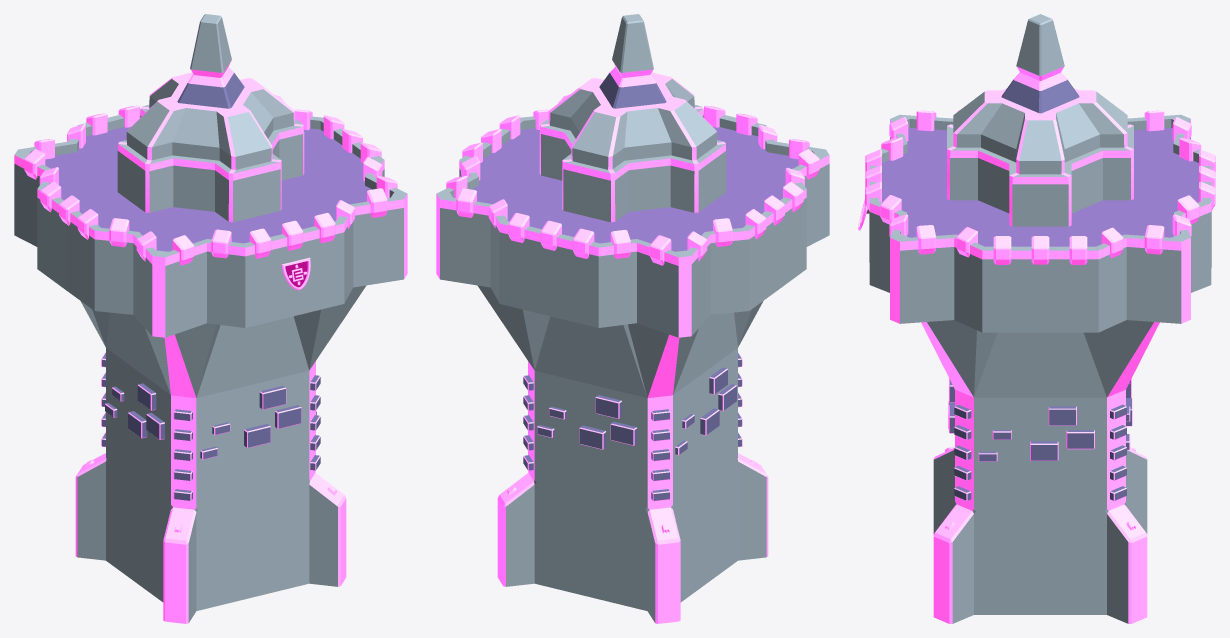
Rendered from asset_castle_tower3.fbx.
3 renders of one model, left to right at view 1: azimuth 30°, elevation 25°; view 2: azimuth 150°, elevation 25°; view 3: azimuth 270°, elevation 25°, orthographic. The views are drawn at different scales.
Visible parts, largest first — view 1: tower2_base, tower2_wide, tower2_center, pCube23, polySurface30, brick_6; view 2: tower2_base, tower2_wide, tower2_center, pCube23, brick_2, brick_5; view 3: tower2_base, tower2_wide, tower2_center, pCube23, brick_2, brick_5, brick_6, tower1_top_merlons9, tower1_top_merlons10, tower1_top_merlons19, tower1_top_merlons21, tower1_top_merlons20.
Part boxes in pixels (bbox=[...]): tower2_base: bbox=[75, 285, 366, 623]; tower2_wide: bbox=[14, 110, 407, 337]; tower2_center: bbox=[117, 72, 304, 222]; pCube23: bbox=[177, 14, 244, 108]; polySurface30: bbox=[281, 257, 310, 290]; brick_6: bbox=[259, 386, 286, 409]; tower2_base: bbox=[477, 285, 768, 623]; tower2_wide: bbox=[436, 110, 829, 337]; tower2_center: bbox=[539, 72, 726, 222]; pCube23: bbox=[599, 14, 666, 108]; brick_2: bbox=[579, 425, 606, 449]; brick_5: bbox=[610, 421, 637, 445]; tower2_base: bbox=[921, 320, 1159, 623]; tower2_wide: bbox=[869, 114, 1211, 332]; tower2_center: bbox=[947, 88, 1133, 226]; pCube23: bbox=[1001, 14, 1079, 113]; brick_2: bbox=[1030, 441, 1058, 460]; brick_5: bbox=[1066, 430, 1094, 449]; brick_6: bbox=[1048, 406, 1076, 425]; tower1_top_merlons9: bbox=[916, 225, 936, 254]; tower1_top_merlons10: bbox=[1144, 225, 1164, 254]; tower1_top_merlons19: bbox=[1069, 236, 1087, 264]; tower1_top_merlons21: bbox=[993, 236, 1011, 264]; tower1_top_merlons20: bbox=[1031, 236, 1049, 264].
Size of the model in its own units: 4432 by 7808 by 4521.
